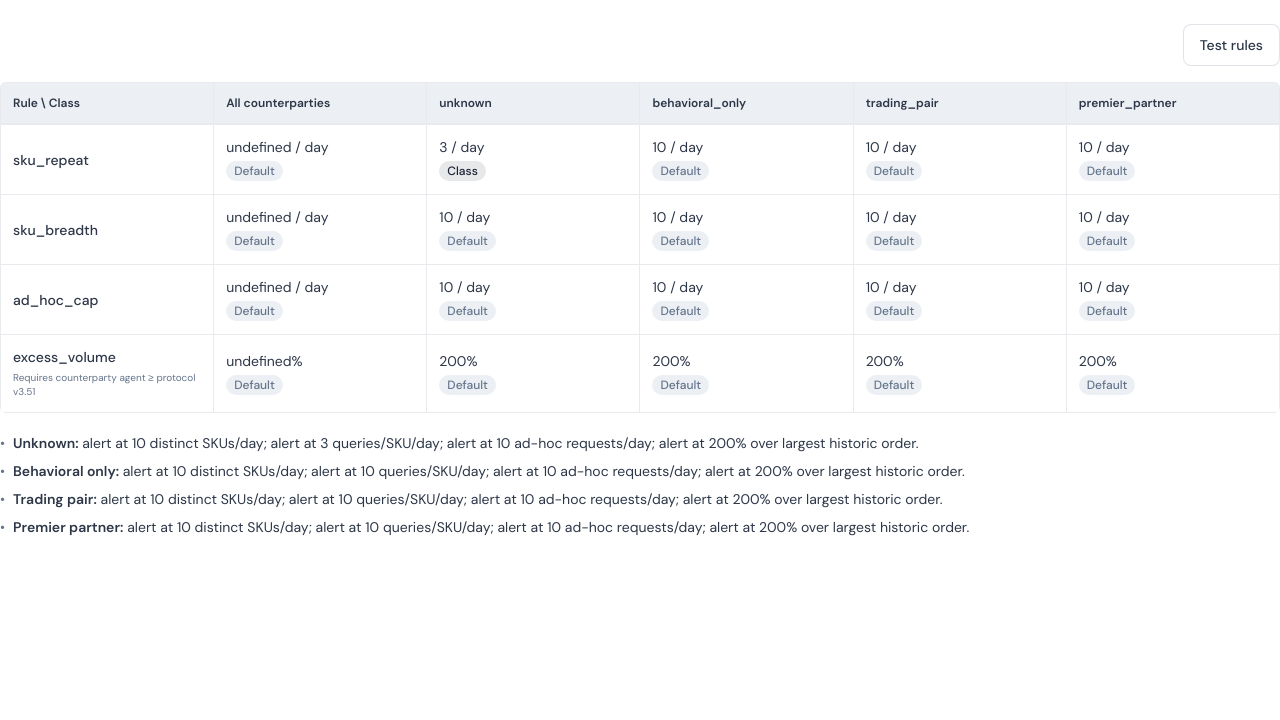
Test: GuardRulesMatrix › reset to default › DELETEs the override row by id and folds the refetched defaults back
What coordinates should you click on to do the following:
click the button with aria-label "sku_repeat rule for unknown"
I would click on:
 (533, 160)
Its box is x1=427 y1=125 x2=640 y2=194.
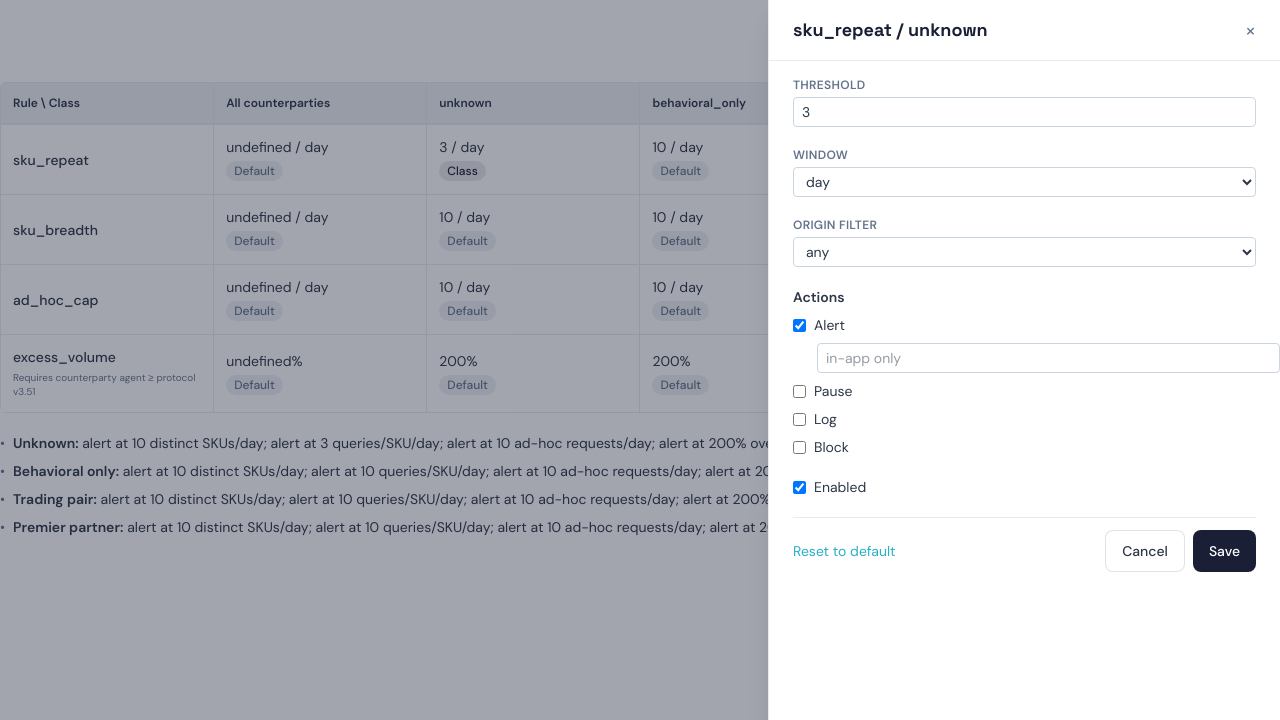
What coordinates should you click on to do the following:
click the button "Reset to default"
I would click on:
 (844, 551)
Its box is x1=793 y1=541 x2=896 y2=561.
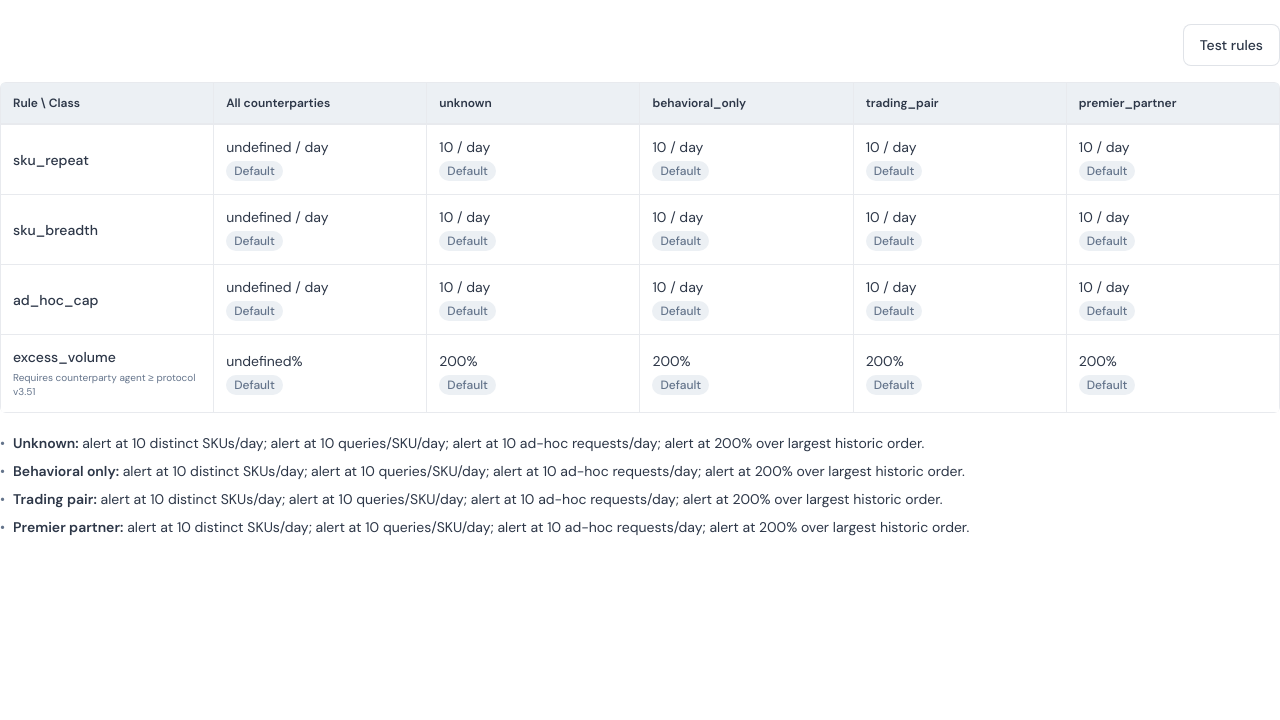
Expected: the button with aria-label "sku_repeat rule for unknown" shows "10 / day", x1=427 y1=125 x2=640 y2=194
